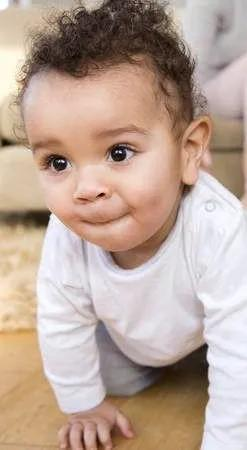Healthy: (5, 29, 247, 283)
